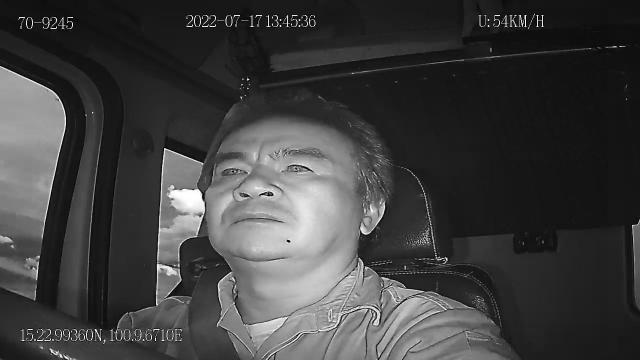SafeDriving: (272, 152, 325, 181), (214, 158, 253, 184)
Seatbelt: (187, 264, 243, 360)
